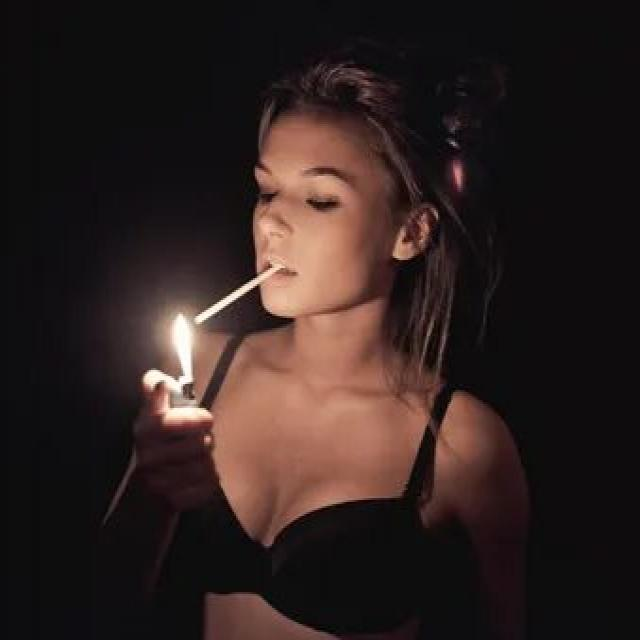cigarette: (194, 262, 287, 332)
